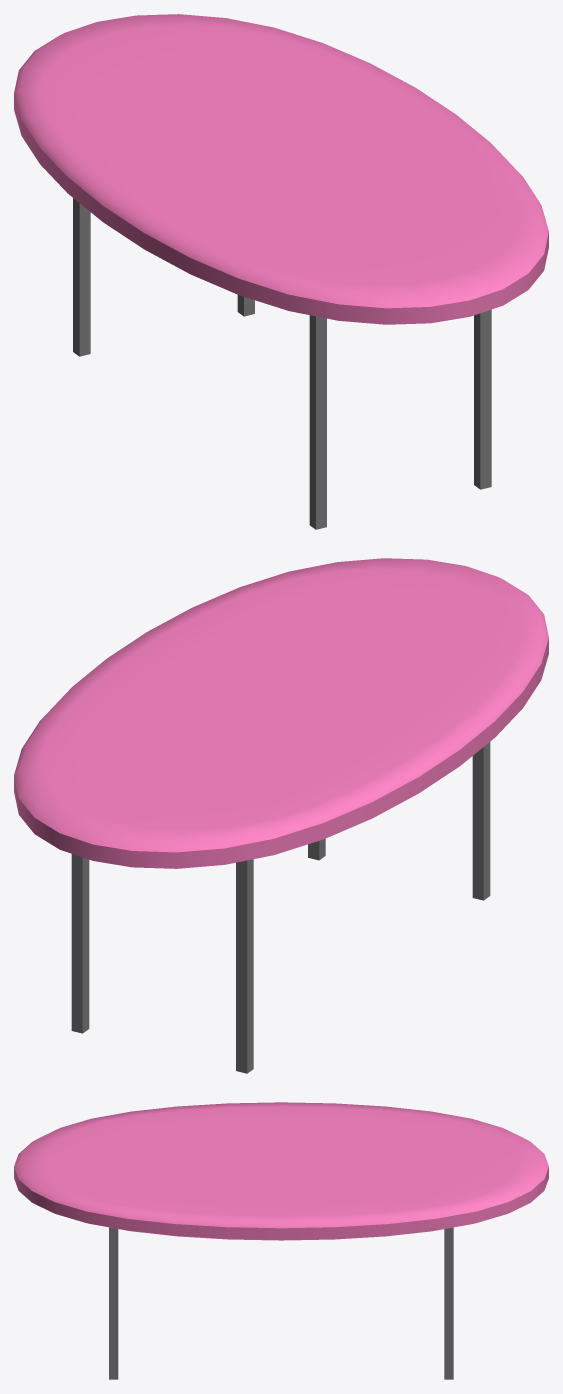
File: Table.FBX
The picture shows the model from 3 angles, top to bottom: view 1: azimuth 30°, elevation 25°; view 2: azimuth 150°, elevation 25°; view 3: azimuth 270°, elevation 25°; orthographic projection. The views are drawn at different scales.
Visible parts, largest first — view 1: Object004; view 2: Object004; view 3: Object004.
Part boxes in pixels (<box>): Object004: <box>14,14,548,529</box>; Object004: <box>14,558,548,1073</box>; Object004: <box>14,1102,548,1379</box>.
Bounding box in the file's own units: 316 × 223 × 578.
